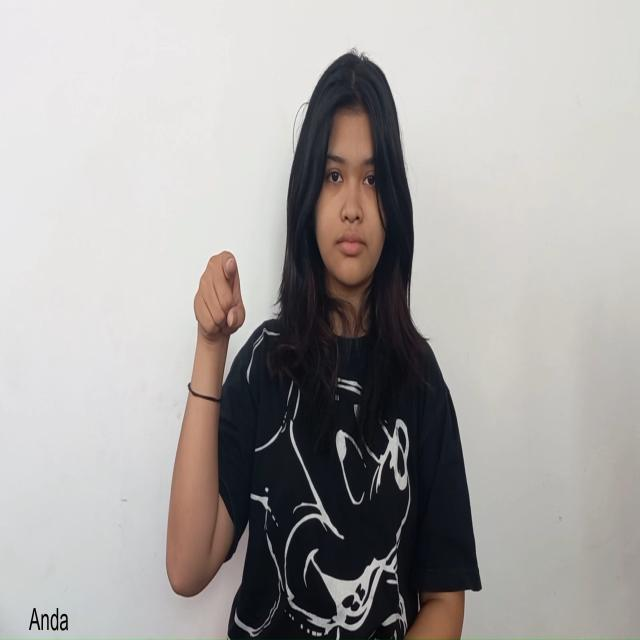Anda -BISINDO-: (192, 246, 248, 357)
